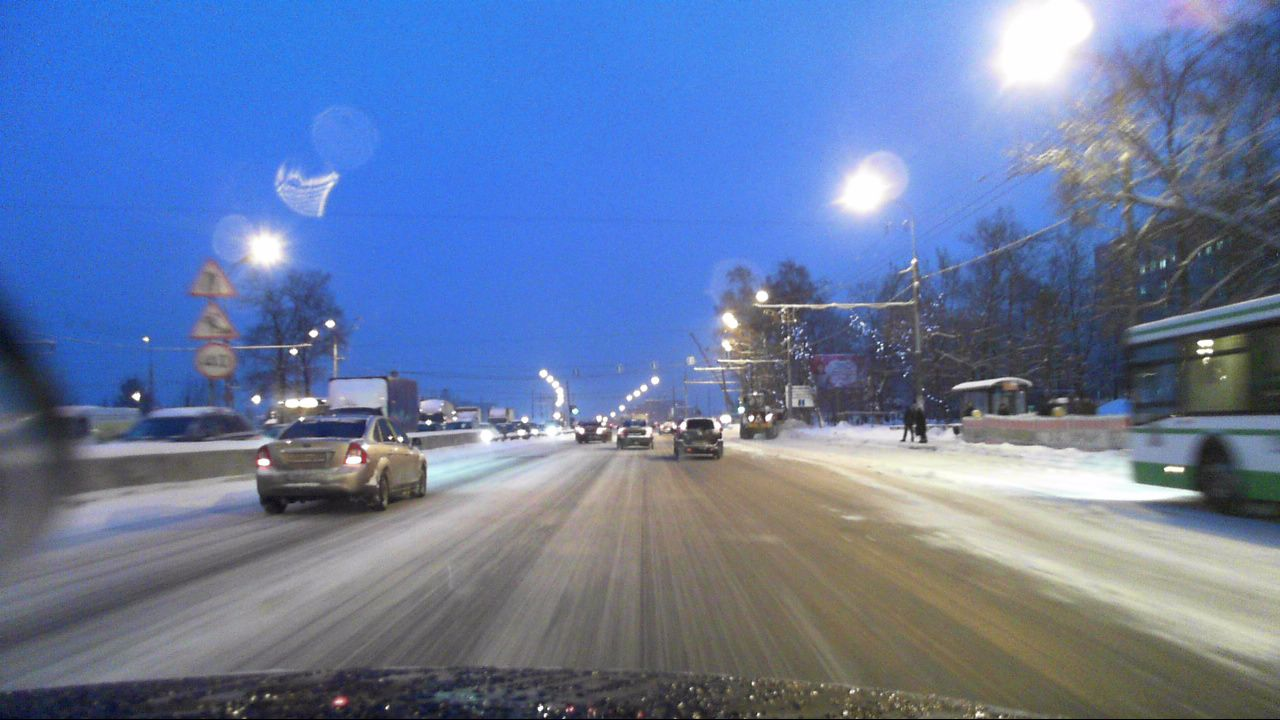speed_warning_40: (194, 340, 235, 377)
